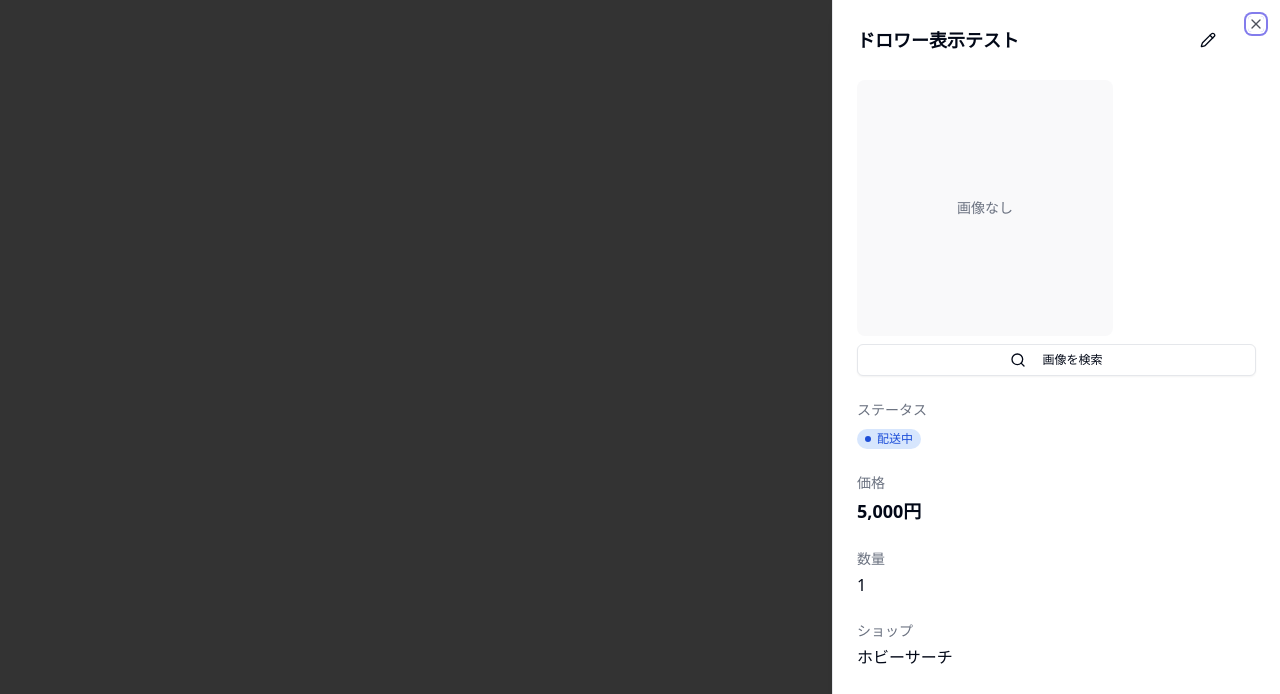
it: OrderItemDrawer › handleSave - Edit Mode › exits edit mode when cancel button is clicked
編集モードに入る
Click the button titled "編集": (1208, 40) [1192, 24, 1224, 56]
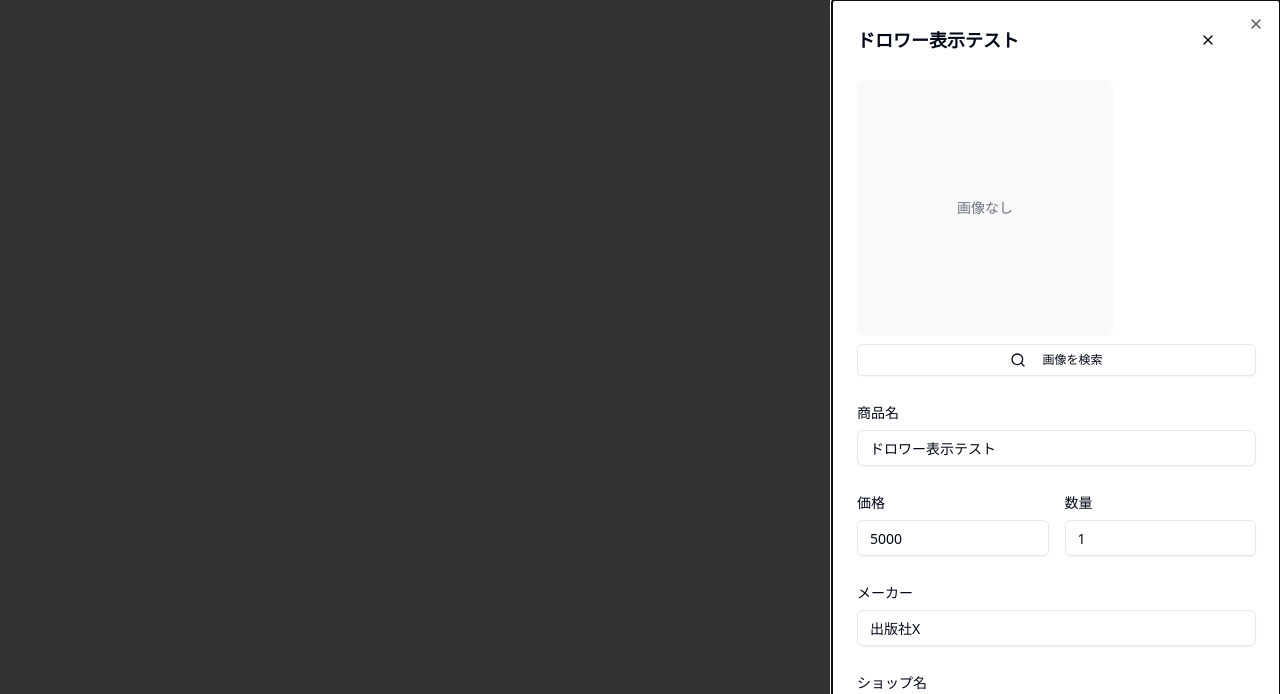
Result: the field labelled "商品名" is shown at [857, 430, 1256, 466]
Click the button named "キャンセル": (1208, 40) [1192, 24, 1224, 56]
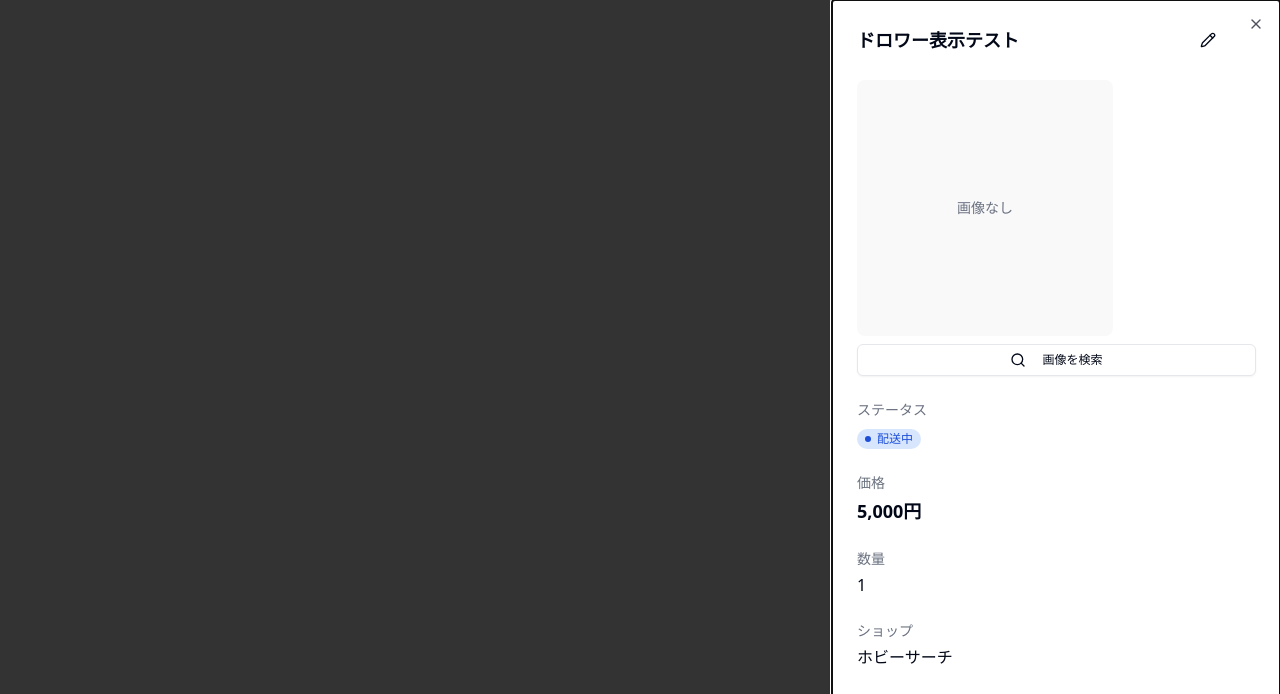
Result: the label labelled "商品名" is gone
